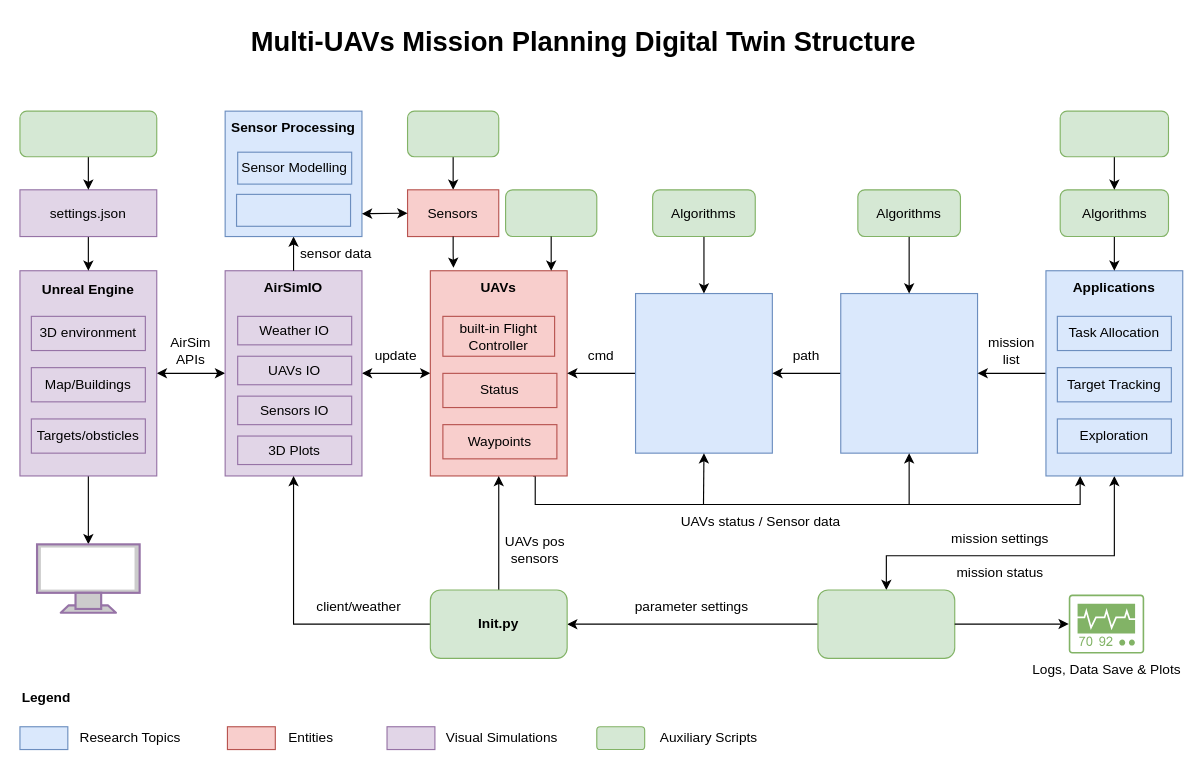
The diagram is 1203 pixels wide and 774 high, and some of its shapes have lost their labels. The shapes that lost their labels are listed below. From the top down, each one's centre as x and y in pixels, then its label:
At (x=88, y=133): "JsonSettings.py".
At (x=452, y=133): "Sensor Class".
At (x=1113, y=133): "Value Functions".
At (x=293, y=209): "Filtering/Fusion".
At (x=550, y=213): "UAV Class".
At (x=703, y=372): "Path Following".
At (x=909, y=372): "Path Planning".
At (x=87, y=578): "Visual Display".
At (x=886, y=623): "main.py".
